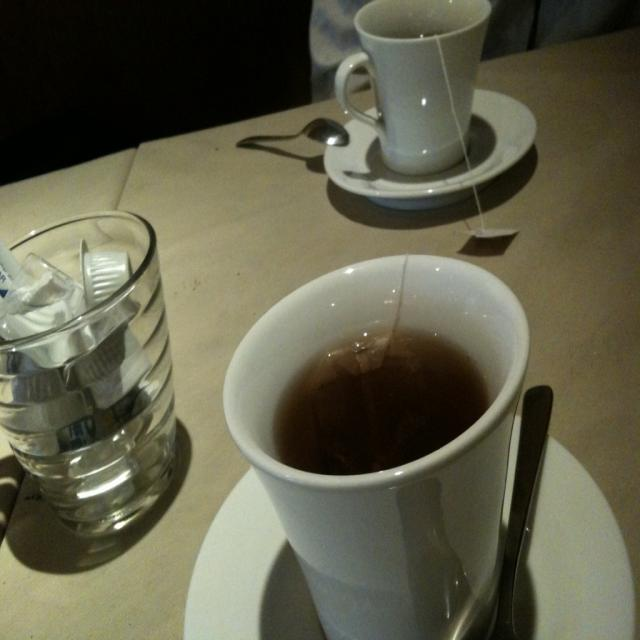Tea: (272, 331, 487, 479), (387, 28, 440, 40)
